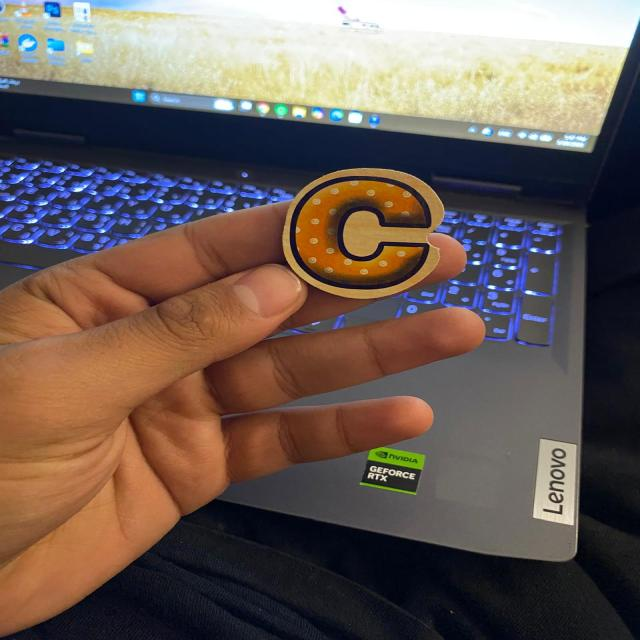C: (282, 169, 444, 299)
